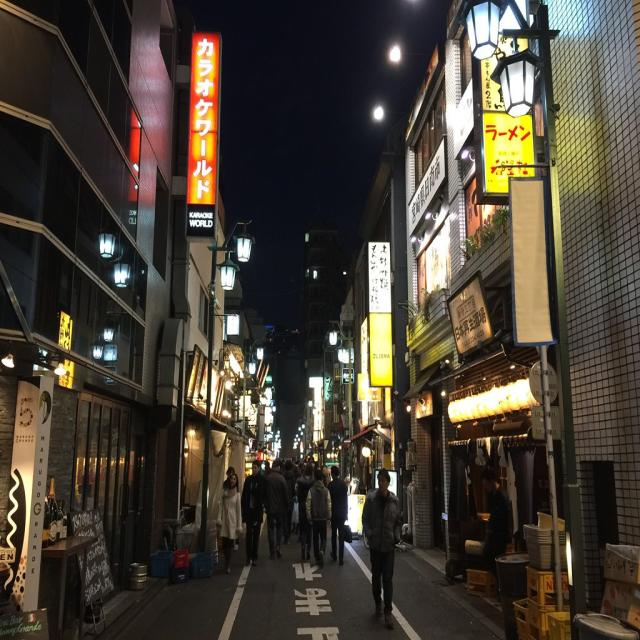body: (360, 466, 402, 632), (478, 467, 514, 603), (240, 458, 266, 568), (262, 460, 290, 560), (304, 470, 332, 568), (216, 473, 243, 574), (326, 465, 348, 567), (296, 462, 316, 560), (260, 457, 330, 481), (282, 480, 299, 545), (222, 466, 236, 492)
